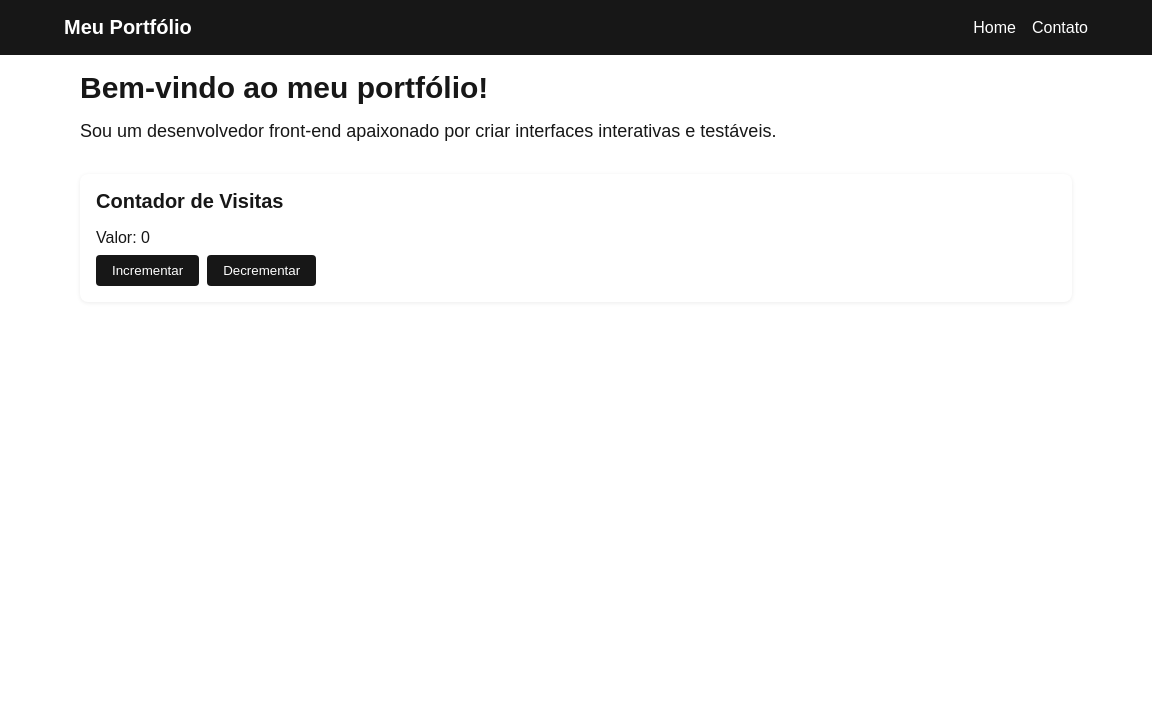
Contador na Página Inicial › mantém o estado do contador entre navegações
Incrementa o contador duas vezes
Click the button with test id "increment-button": (148, 271) [96,255,199,286]
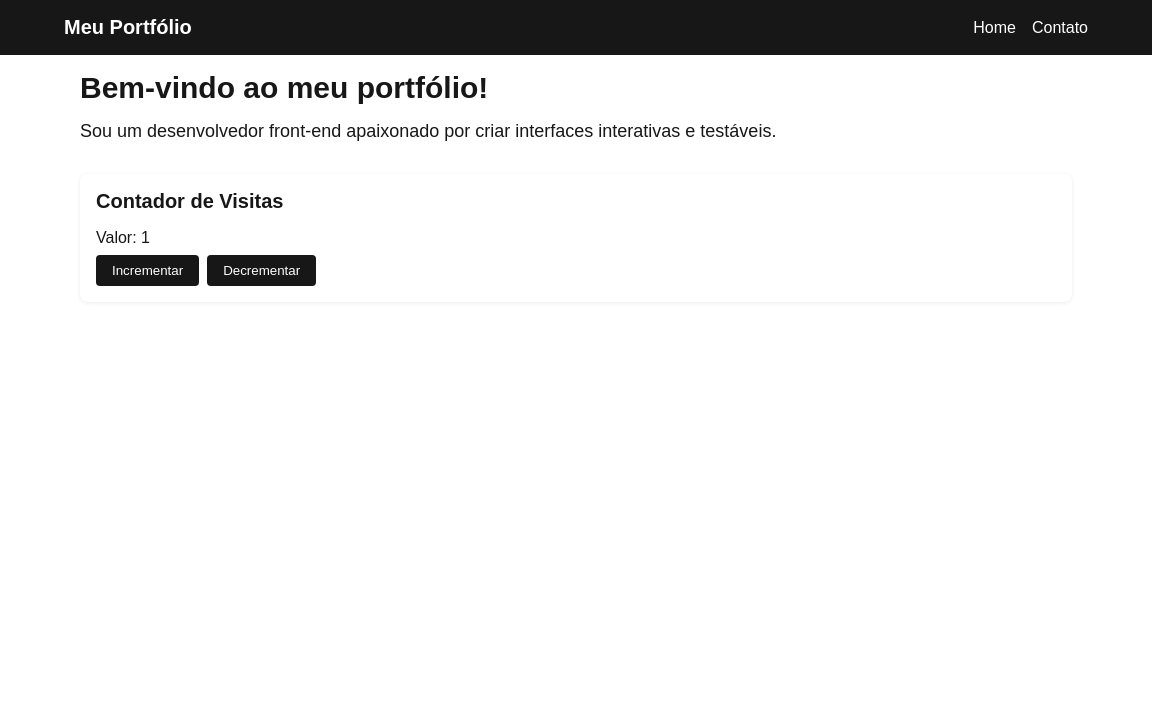
Click the button with test id "increment-button": (148, 271) [96,255,199,286]
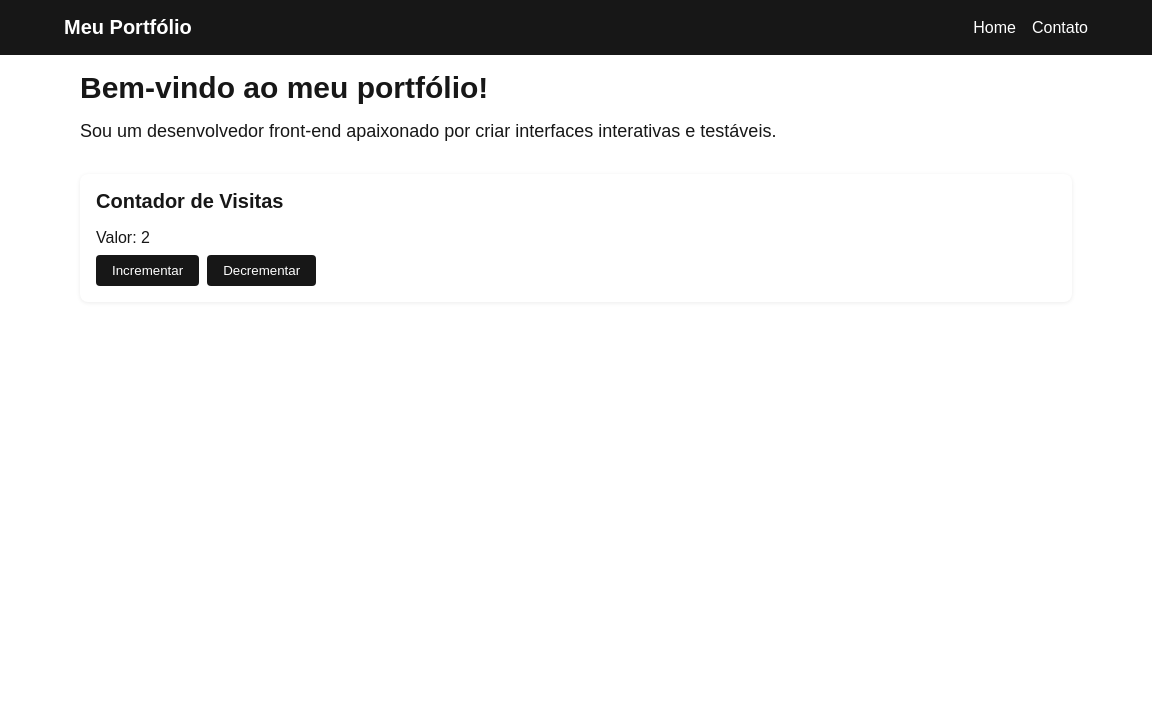
Result: the text with test id "counter-value" reads "Valor: 2" at [96,229,150,246]
Navega para contato e volta
Click the link with test id "nav-contact": (1060, 28) [1032,19,1088,36]
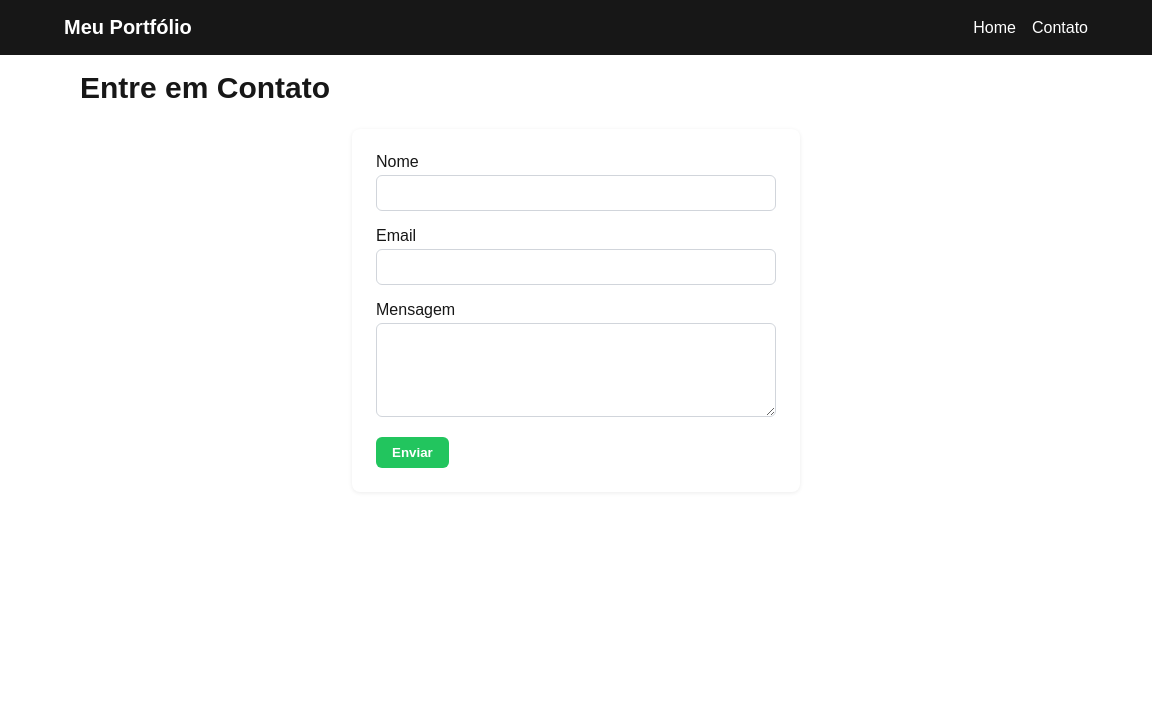
Click the link with test id "nav-home": (995, 28) [973,19,1016,36]
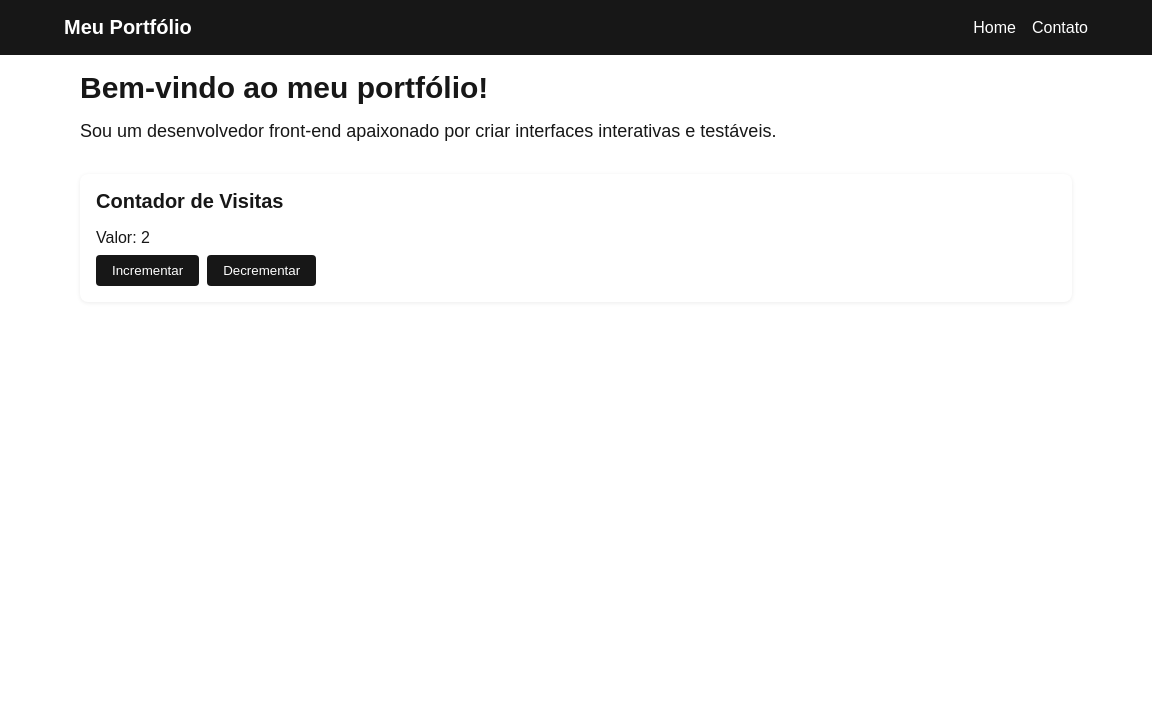
Result: the text with test id "counter-value" reads "Valor: 2" at [96,229,150,246]
